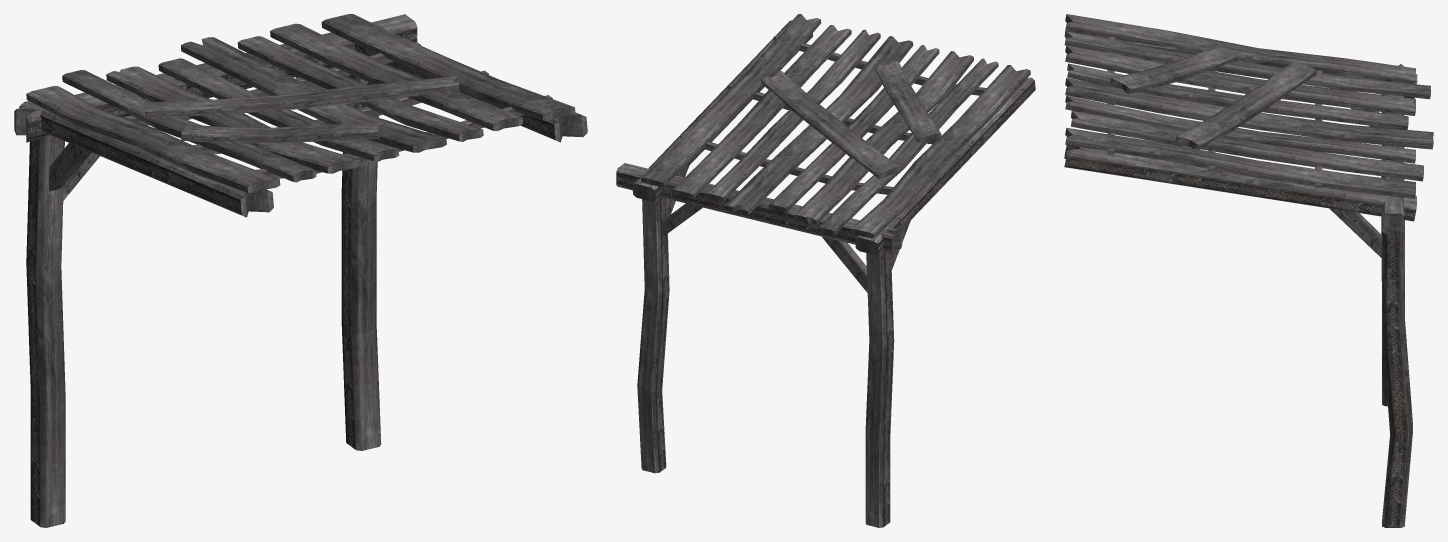
File: tavern_smallRoof.dae
3 views of the same model, side by side, from view 1: azimuth 30°, elevation 25°; view 2: azimuth 150°, elevation 25°; view 3: azimuth 270°, elevation 25° (orthographic). The views are drawn at different scales.
Visible parts, largest first — view 1: Default_Layer; view 2: Default_Layer; view 3: Default_Layer.
Boxes of the visible parts, x1,y1,x2,y2 form: Default_Layer: (14, 14, 587, 527); Default_Layer: (616, 14, 1035, 527); Default_Layer: (1064, 14, 1433, 527).
Bounding box in the file's own units: 6.29 × 7.55 × 6.55.
